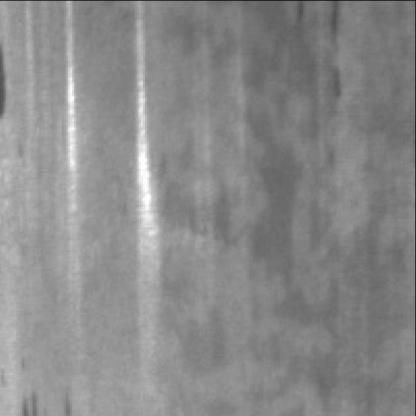scratches: (125, 10, 164, 310), (56, 8, 83, 235)
